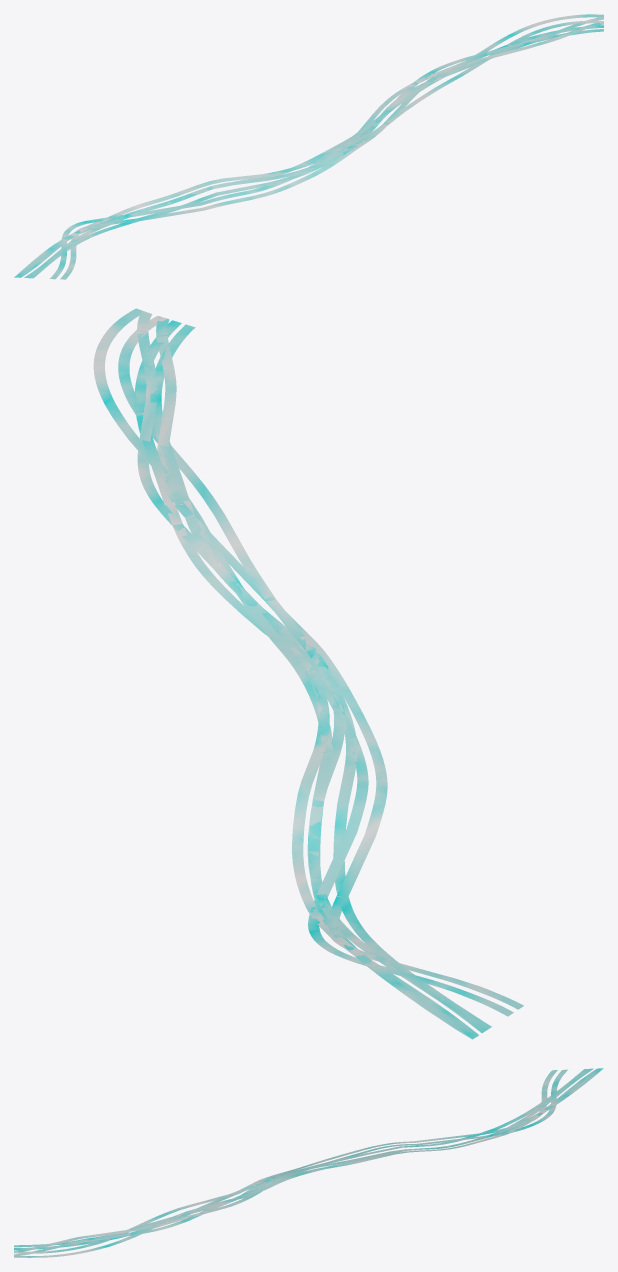
3 renders of one model, top to bottom at view 1: azimuth 90°, elevation 25°; view 2: azimuth 150°, elevation 25°; view 3: azimuth 270°, elevation 25°, orthographic. The views are drawn at different scales.
Visible parts, largest first — view 1: SpaceCenter_Long3_GenerateRoad_Sand_TireTracks_Narrow_Mesh_x; view 2: SpaceCenter_Long3_GenerateRoad_Sand_TireTracks_Narrow_Mesh_x; view 3: SpaceCenter_Long3_GenerateRoad_Sand_TireTracks_Narrow_Mesh_x.
Part boxes in pixels (x1,y1,x2,y2): SpaceCenter_Long3_GenerateRoad_Sand_TireTracks_Narrow_Mesh_x: [14, 14, 603, 279]; SpaceCenter_Long3_GenerateRoad_Sand_TireTracks_Narrow_Mesh_x: [93, 308, 523, 1039]; SpaceCenter_Long3_GenerateRoad_Sand_TireTracks_Narrow_Mesh_x: [14, 1068, 603, 1257].
Size of the model in its own units: 2255 by 2047 by 175.
